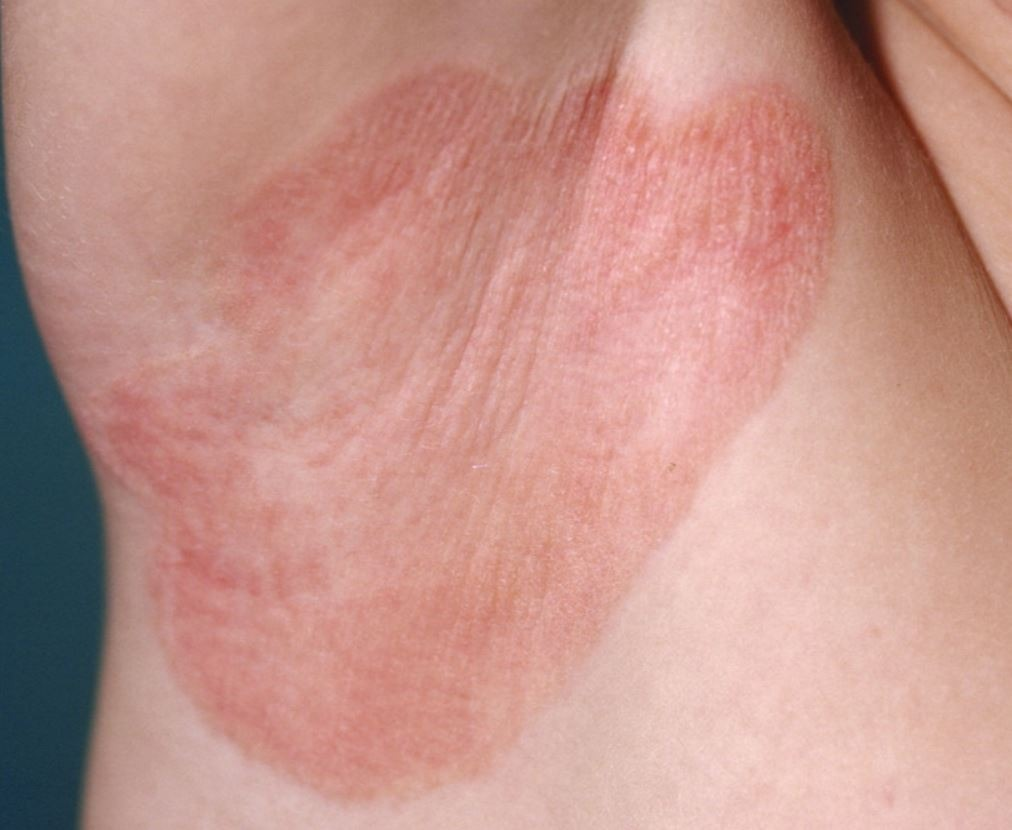Psoriasis: (101, 63, 868, 814)
